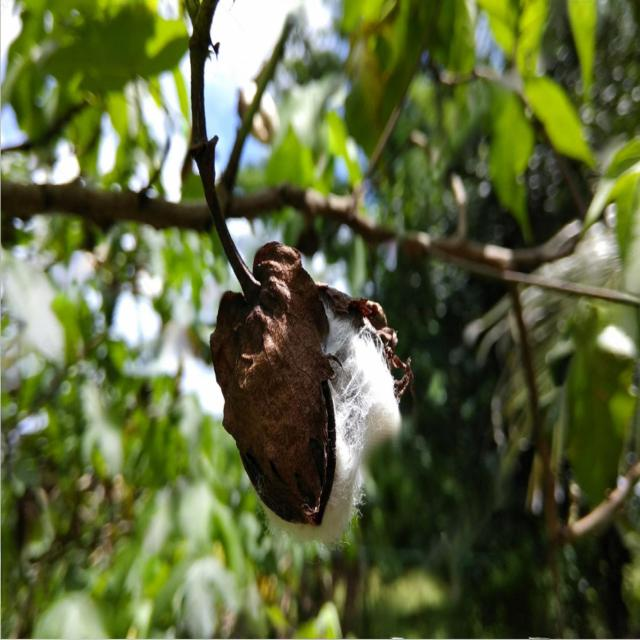Early_blight: (195, 222, 412, 555)
